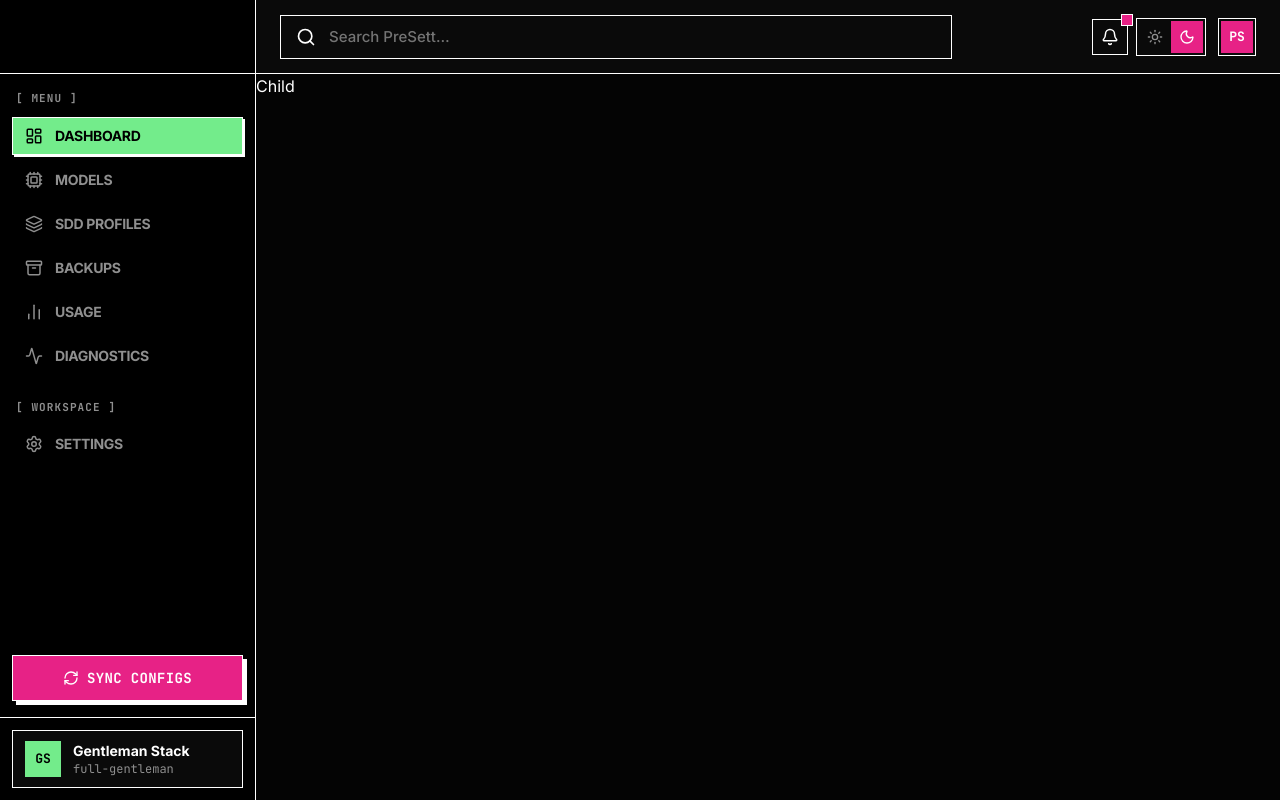
Scenario: DashboardLayout › bell shows unread badge and panel marks notifications as read
// Open panel → notification appears
Step 1. Click the button named "notifications" → (1110, 36), box [1092, 18, 1128, 54]
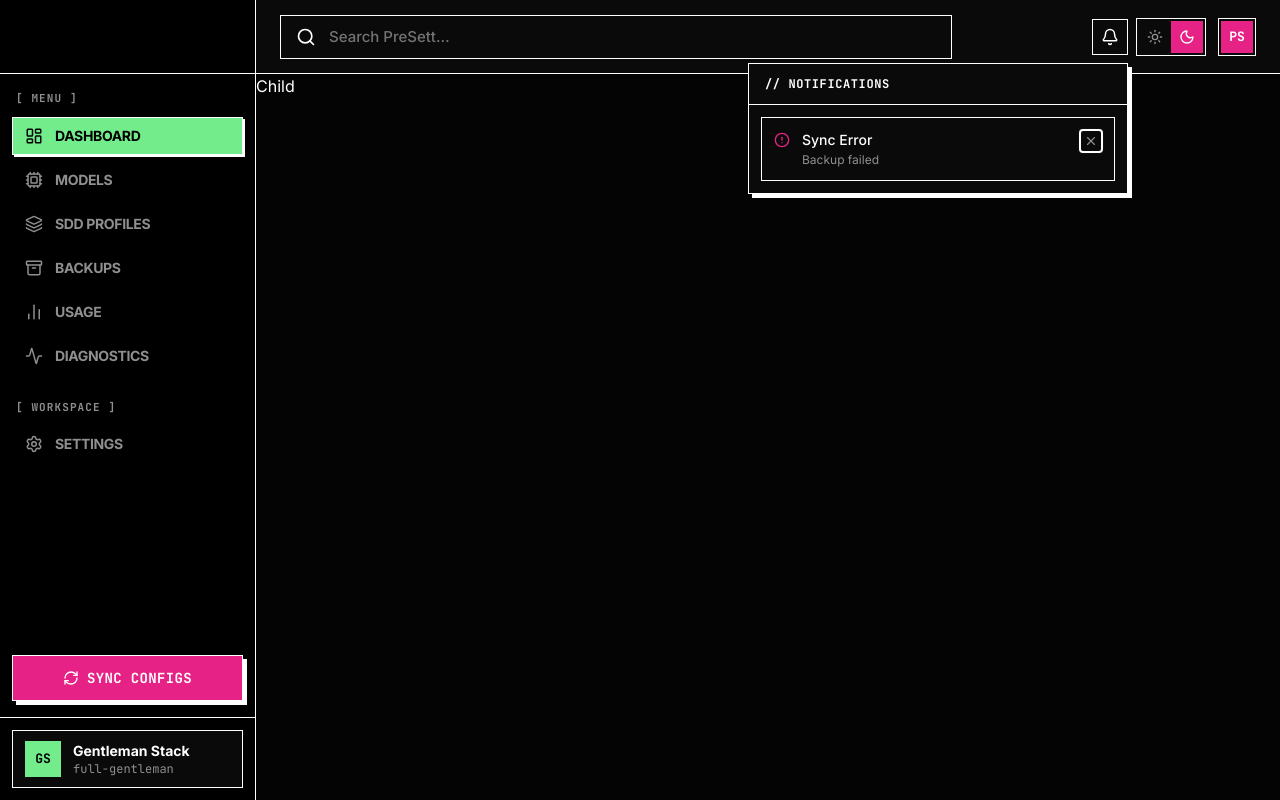
expect the text "Sync Error" is shown: met, box [802, 131, 872, 148]
